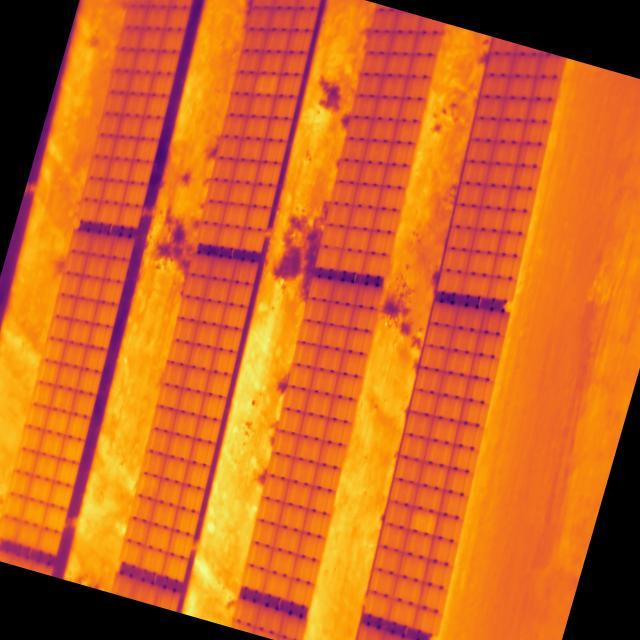Hotspot: (412, 510, 436, 528)
